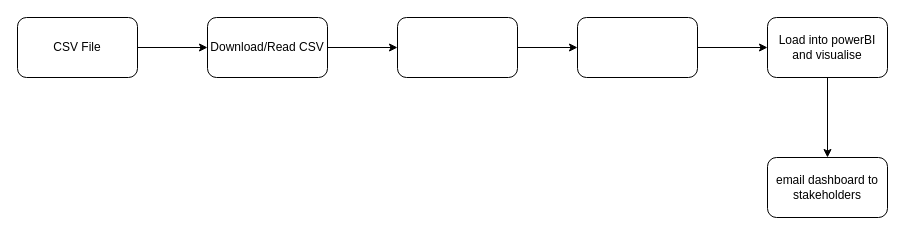
This 905x235 diagram has some shape labels left out. The centre of each missing label's shape, as x and y in pixels:
Format and process/clean data: pixel 457 47
Move to DB: pixel 637 47
